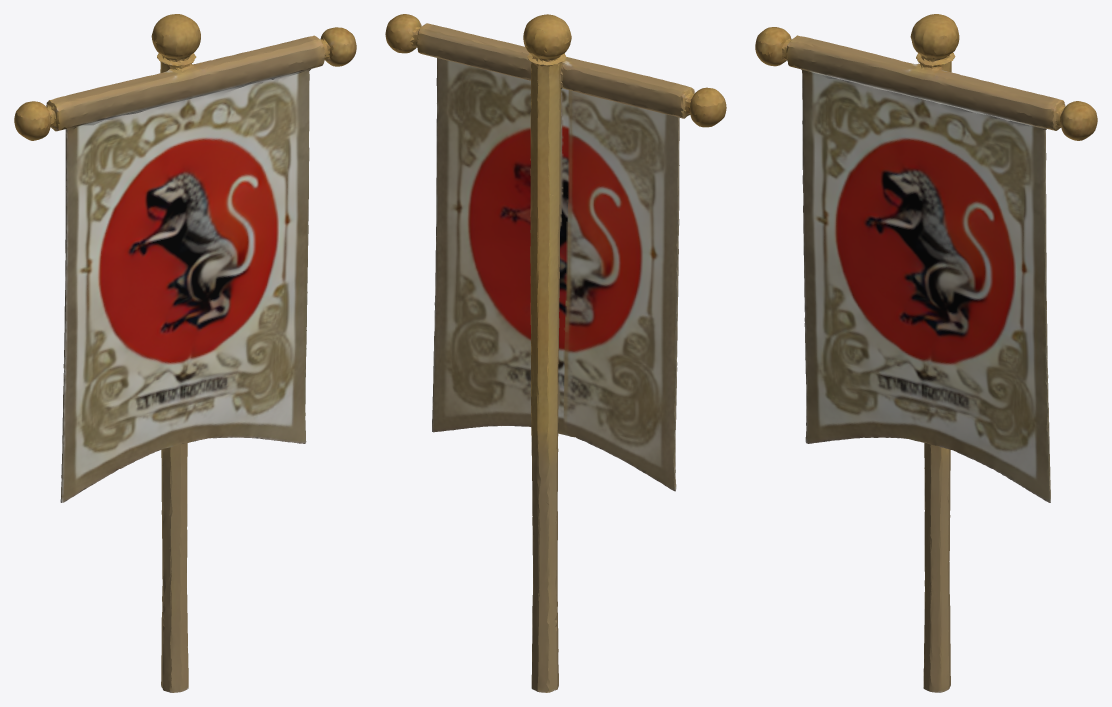
The picture shows the model from 3 angles, left to right: view 1: azimuth 30°, elevation 25°; view 2: azimuth 150°, elevation 25°; view 3: azimuth 330°, elevation 25°; orthographic projection.
Parts seen in each view (by area): view 1: BannerOfTheRatPack; view 2: BannerOfTheRatPack; view 3: BannerOfTheRatPack.
Boxes of the visible parts, <box> form: BannerOfTheRatPack: <box>14,14,356,692</box>; BannerOfTheRatPack: <box>385,14,726,692</box>; BannerOfTheRatPack: <box>755,14,1097,692</box>.
Size of the model in its own units: 0.9973 by 1.9 by 0.1606.
Materials: 1 (1 with a texture image).
